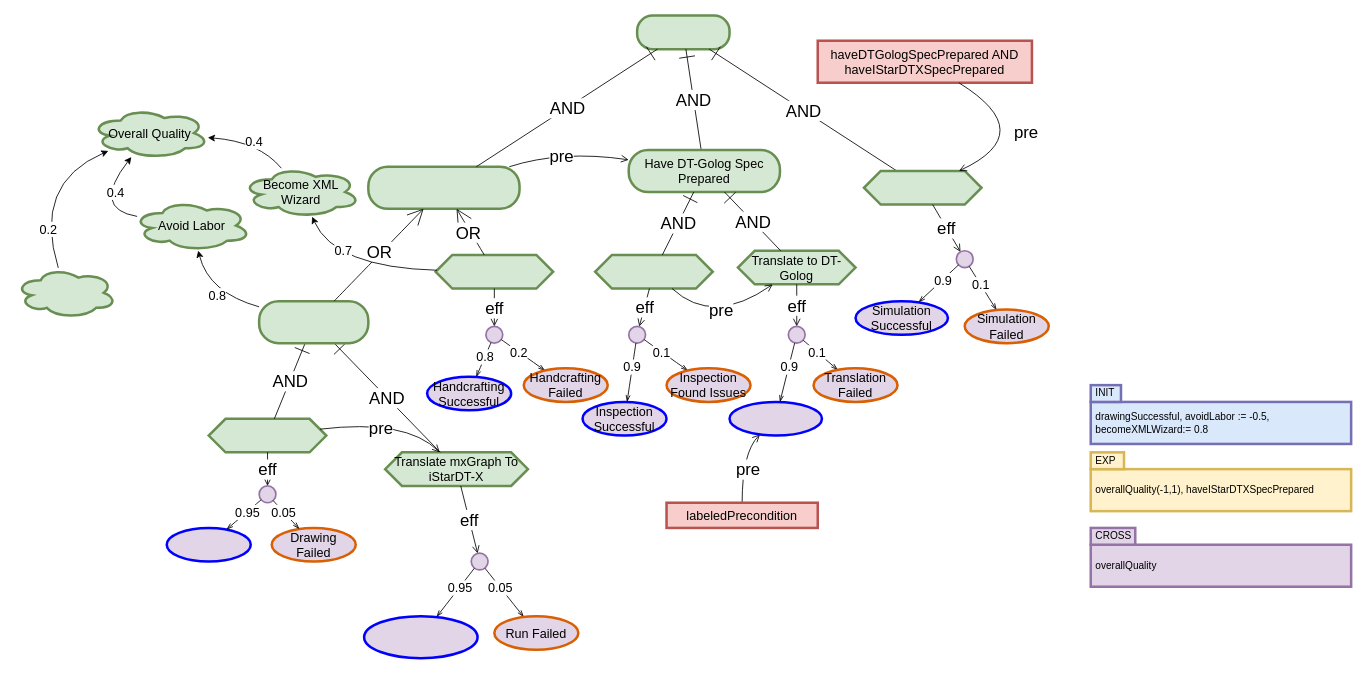
Some shapes in this 1367 by 674 pixel diagram are drawn without their labels. Here are the shapes that lost their labels. From the top down, the centre of each, then its label:
At [682,32]: "Simulate Domain".
At [443,187]: "Have iStarDT-X Spec Prepared".
At [922,187]: "Run Simulation".
At [494,271]: "Handcraft Spec".
At [653,271]: "Visually Inspect iStarDT-X Spec".
At [65,292]: "Modeler Happiness".
At [313,321]: "Have Spec Visually Prepared".
At [267,435]: "Draw iStarDT-V Model".
At [775,418]: "Translation Successful".
At [208,544]: "Drawing Successful".
At [420,636]: "Spec Successfully Generated".
